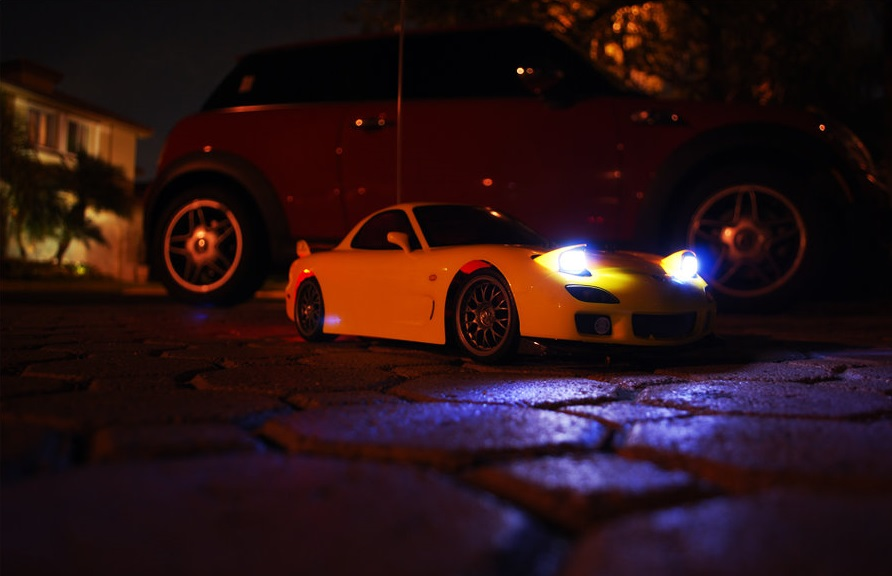car: (274, 188, 731, 371)
